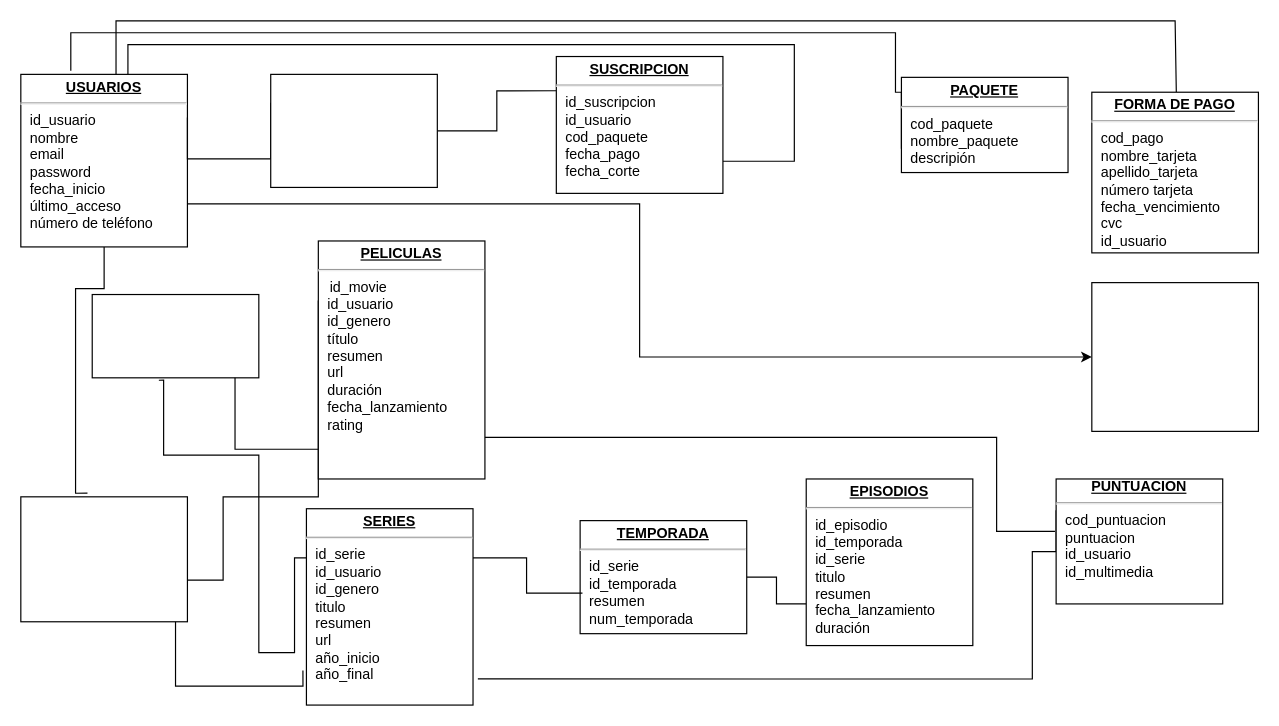
Some shapes in this 1279 by 726 pixel diagram are drawn without their labels. The shapes that lost their labels are listed below. From the top down, each one's centre as x and y in pixels, then its label:
At [353,130]: "PERFILES id_perfil id_usuario nombre fecha_inicio".
At [175,335]: "GÉNERO id_genero etiqueta".
At [1174,356]: "VISTA_USUARIO id_usuario id_movie id_serie duracion fecha_inicio fecha_final".
At [103,559]: "RESTRICCIONES cod_restriccion nombre_restriccion id_usuario id_multimedia".
